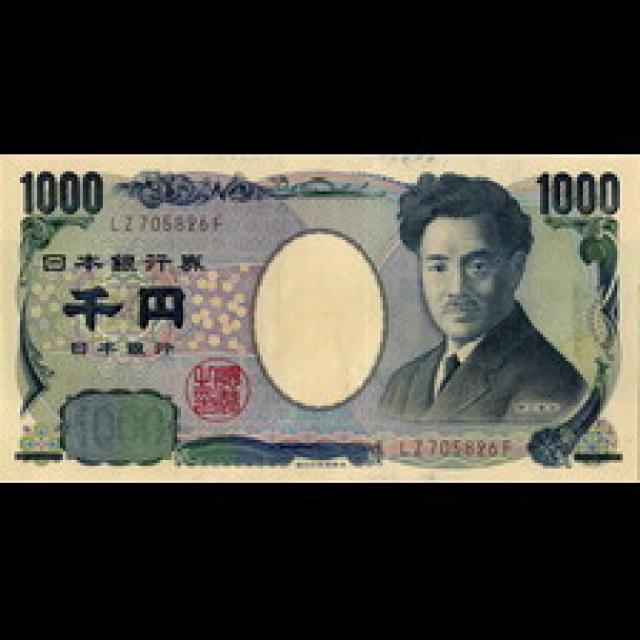banknote: (0, 151, 637, 483)
